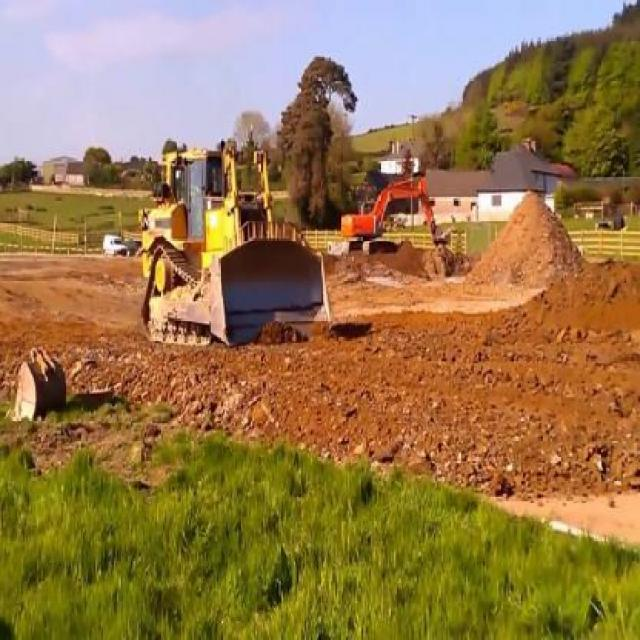Excavator: (339, 171, 447, 255)
